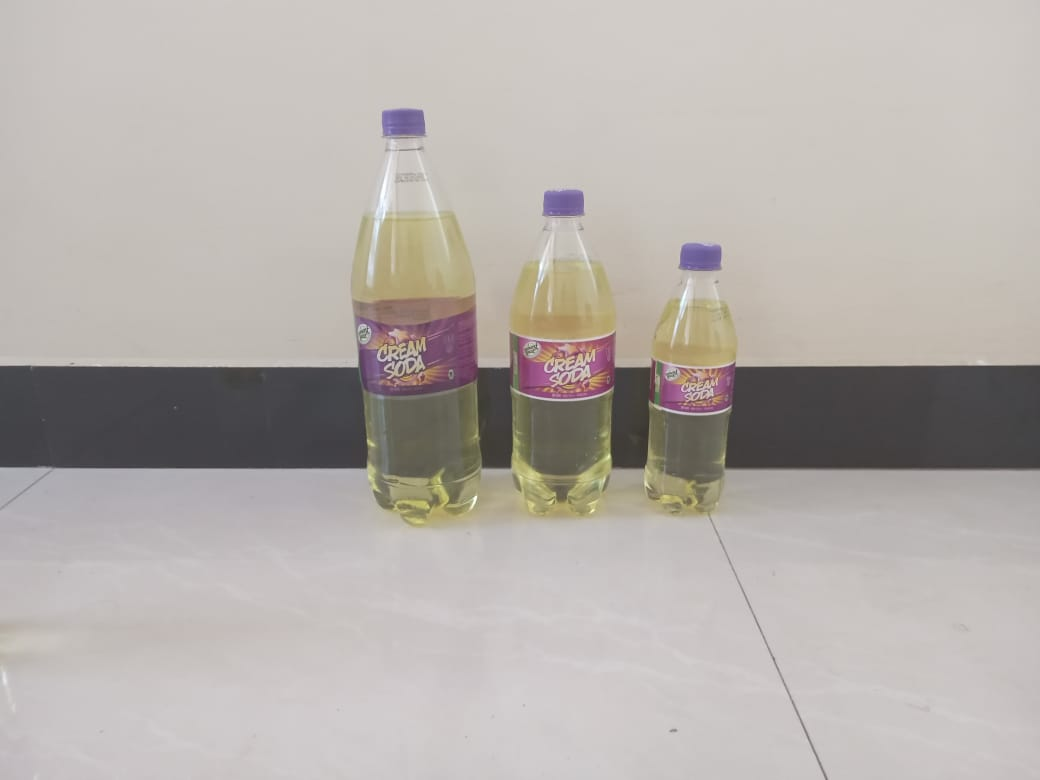L: (349, 109, 486, 525)
M: (506, 191, 614, 524)
S: (646, 244, 735, 522)
